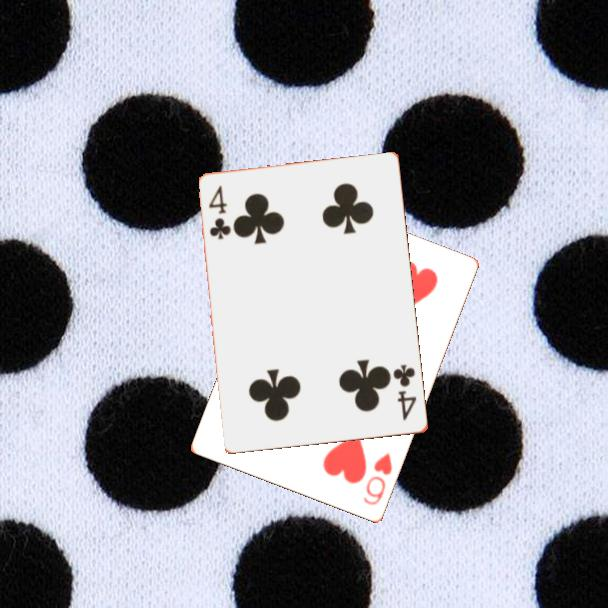c04: (390, 361, 420, 424), (205, 182, 233, 242)
h06: (360, 449, 395, 509)
